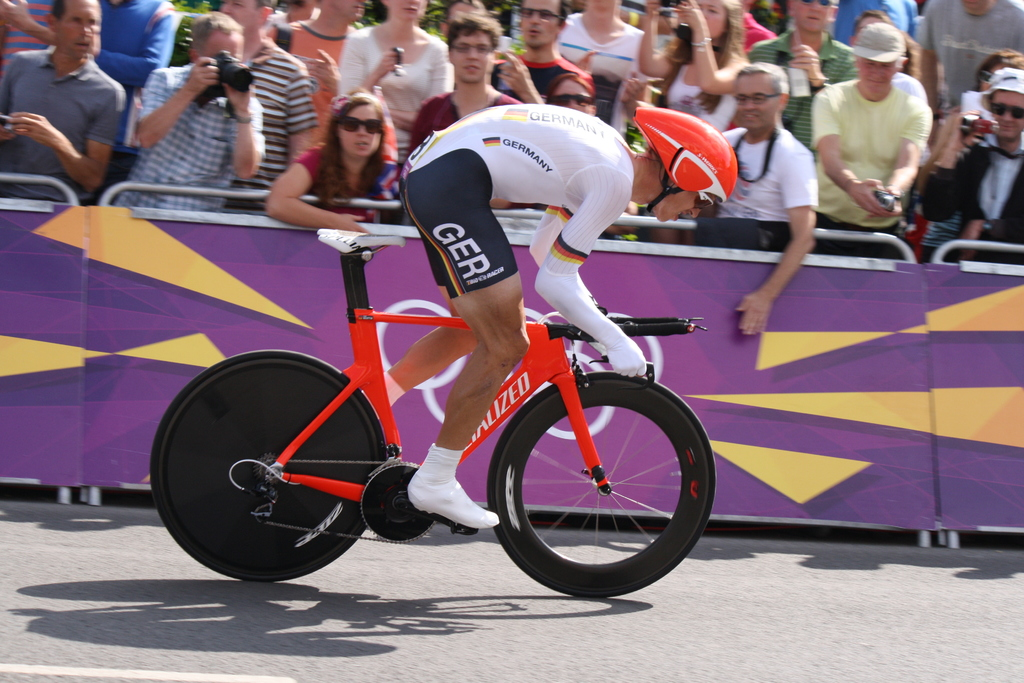Bike: (142, 226, 716, 602)
